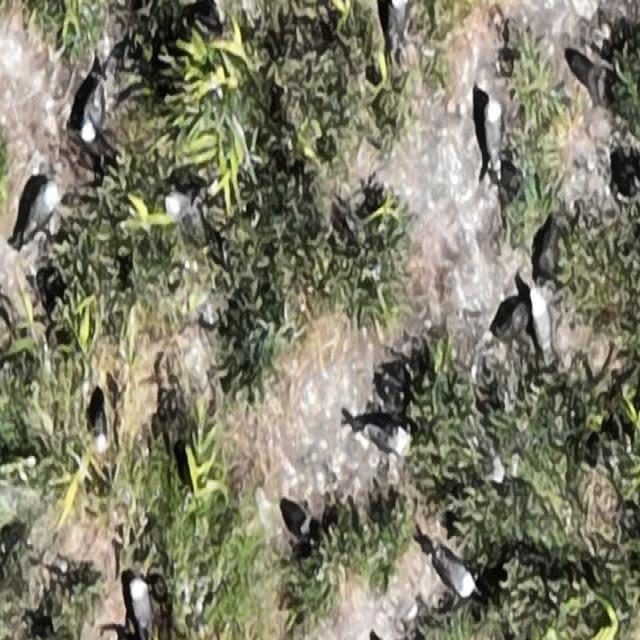umineko: (18, 180, 56, 244), (80, 75, 107, 145), (362, 417, 410, 456), (485, 97, 503, 173), (442, 557, 474, 598), (531, 285, 550, 353), (162, 192, 198, 224), (131, 585, 151, 633), (93, 396, 107, 451)
